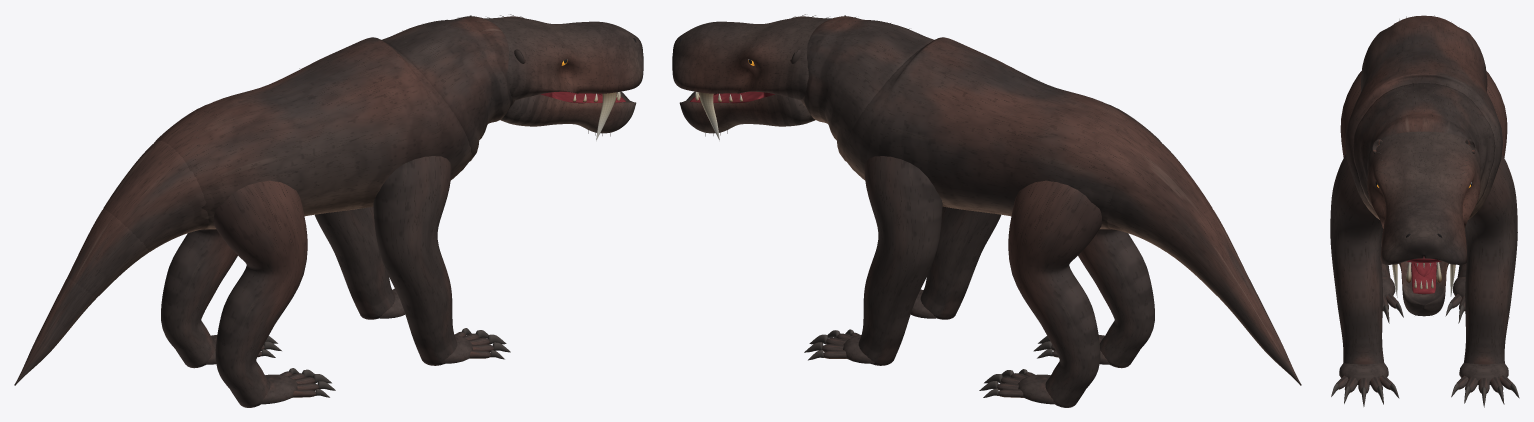
The model's file is gorgonopsia.glb.
The picture shows the model from 3 angles, left to right: view 1: azimuth 30°, elevation 25°; view 2: azimuth 150°, elevation 25°; view 3: azimuth 270°, elevation 25°; orthographic projection. The views are drawn at different scales.
Parts seen in each view (by area): view 1: Gorgo_Torso, Gorgo_Hindleg_3, Gorgo_Foreleg_1, Gorgo_UpperCranium, Gorgo_Neck, Gorgo_TailSeg0, Gorgo_Hindleg_2, Gorgo_Foreleg_0, Gorgo_TailSeg1, Gorgo_Mandible, Gorgo_TailSeg2, Gorgo_HindPaw_3_PawPad; view 2: Gorgo_Torso, Gorgo_Hindleg_2, Gorgo_Foreleg_0, Gorgo_UpperCranium, Gorgo_Neck, Gorgo_TailSeg0, Gorgo_Hindleg_3, Gorgo_Foreleg_1, Gorgo_TailSeg1, Gorgo_Mandible, Gorgo_TailSeg2, Gorgo_HindPaw_2_PawPad; view 3: Gorgo_UpperCranium, Gorgo_Torso, Gorgo_Foreleg_1, Gorgo_Foreleg_0, Gorgo_Neck, Gorgo_Mandible, Gorgo_Hindleg_2, Gorgo_Hindleg_3, Gorgo_ForePaw_0_PawPad, Gorgo_ForePaw_1_PawPad, Gorgo_LowerGum, Gorgo_HindPaw_2_PawPad (+2 smaller).
Boxes of the visible parts, x1,y1,x2,y2 form: Gorgo_Torso: (154,37,471,229); Gorgo_Hindleg_3: (213,180,307,407); Gorgo_Foreleg_1: (373,156,457,365); Gorgo_UpperCranium: (484,16,643,100); Gorgo_Neck: (382,16,514,161); Gorgo_TailSeg0: (103,140,208,251); Gorgo_Hindleg_2: (161,229,237,368); Gorgo_Foreleg_0: (314,206,395,319); Gorgo_TailSeg1: (67,209,148,297); Gorgo_Mandible: (500,91,636,133); Gorgo_TailSeg2: (36,277,96,349); Gorgo_HindPaw_3_PawPad: (259,374,297,404); Gorgo_Torso: (844,37,1161,229); Gorgo_Hindleg_2: (1008,180,1102,407); Gorgo_Foreleg_0: (858,156,942,365); Gorgo_UpperCranium: (672,16,831,100); Gorgo_Neck: (801,16,933,161); Gorgo_TailSeg0: (1107,140,1212,251); Gorgo_Hindleg_3: (1078,229,1154,368); Gorgo_Foreleg_1: (920,206,1001,319); Gorgo_TailSeg1: (1167,209,1248,297); Gorgo_Mandible: (679,91,815,133); Gorgo_TailSeg2: (1219,277,1279,349); Gorgo_HindPaw_2_PawPad: (1018,374,1056,404); Gorgo_UpperCranium: (1367,131,1480,264); Gorgo_Torso: (1345,15,1502,219); Gorgo_Foreleg_1: (1330,154,1384,364); Gorgo_Foreleg_0: (1464,154,1517,364); Gorgo_Neck: (1352,83,1495,208); Gorgo_Mandible: (1399,261,1448,316); Gorgo_Hindleg_2: (1457,71,1507,277); Gorgo_Hindleg_3: (1340,71,1390,277); Gorgo_ForePaw_0_PawPad: (1459,363,1508,384); Gorgo_ForePaw_1_PawPad: (1339,363,1388,384); Gorgo_LowerGum: (1411,262,1436,294); Gorgo_HindPaw_2_PawPad: (1453,277,1465,297).
Bounding box in the file's own units: 4.8 × 2.23 × 1.29.
Materials: 12 (6 with a texture image).
